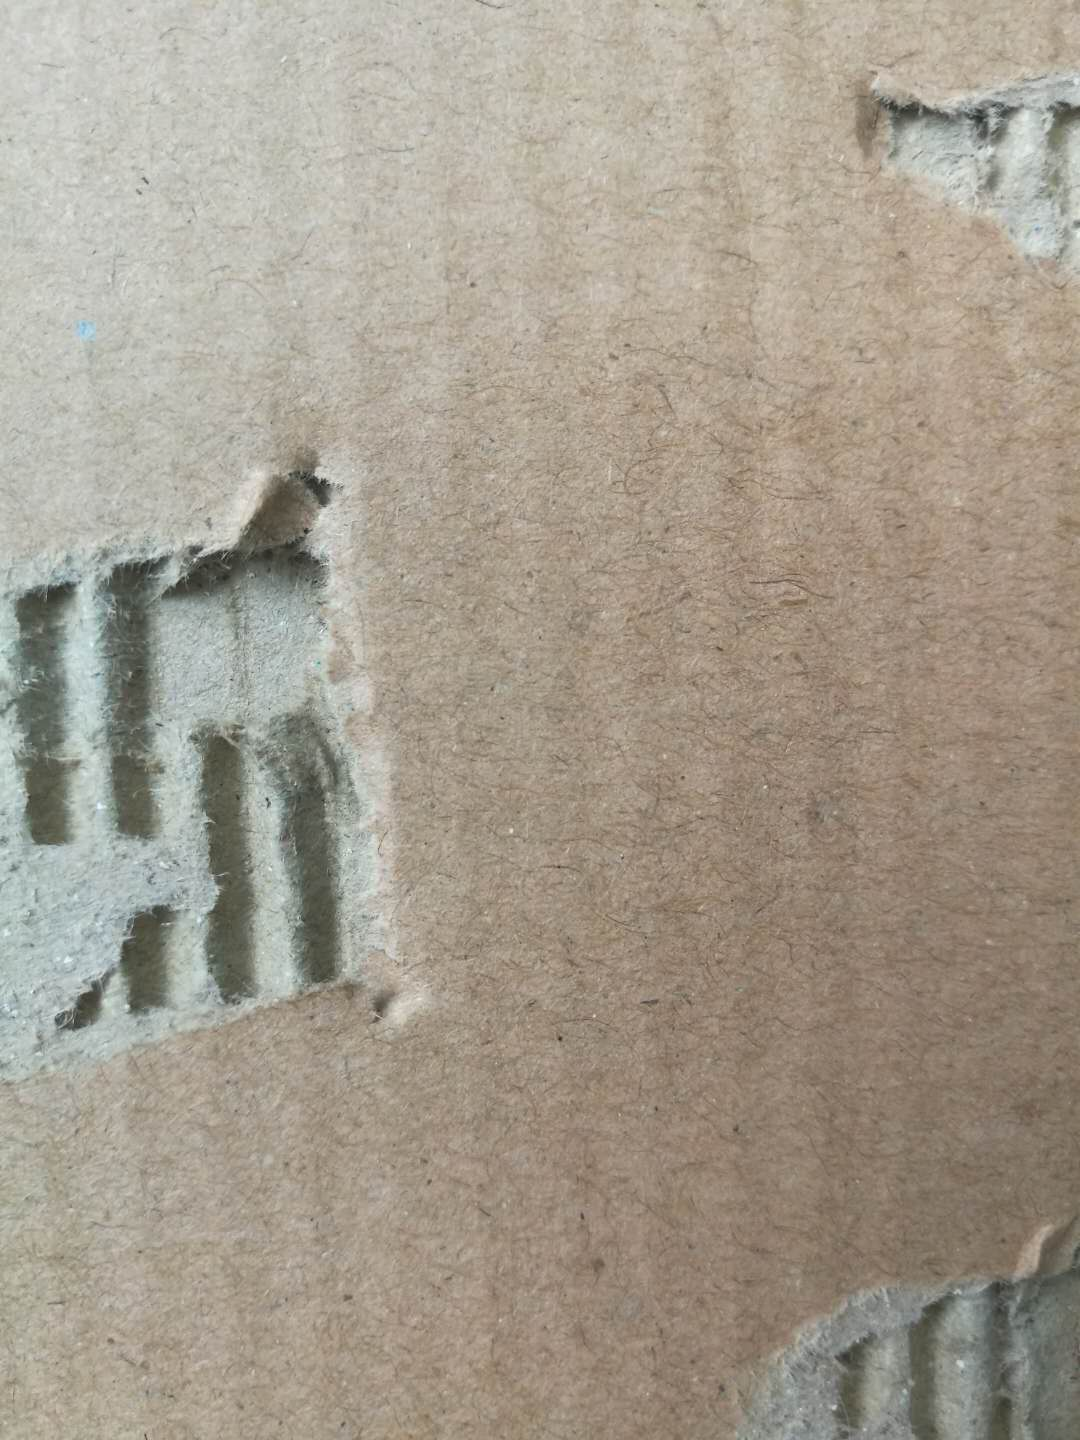defect: (2, 405, 503, 1157), (709, 1191, 1080, 1439), (832, 32, 1080, 307)
